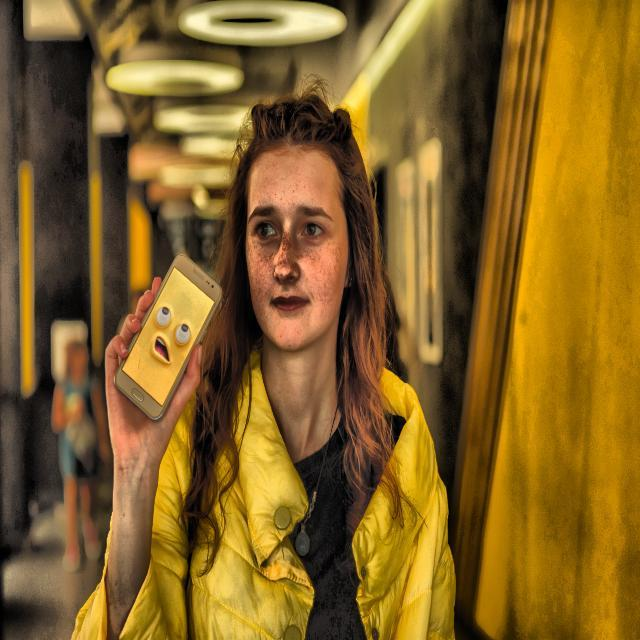Phone: (110, 250, 223, 426)
